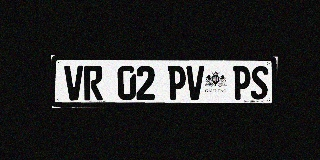0: (117, 66, 136, 100)
2: (136, 66, 155, 100)
P: (168, 66, 186, 100), (233, 66, 251, 100)
R: (84, 65, 103, 100)
S: (251, 66, 268, 99)
V: (64, 65, 84, 100), (186, 66, 204, 100)
